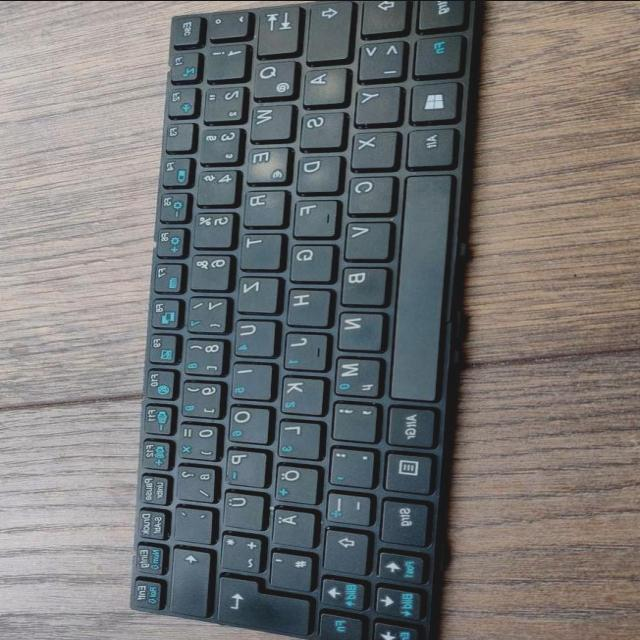0: (174, 419, 218, 459)
1: (202, 40, 246, 78)
2: (200, 82, 243, 120)
3: (195, 123, 240, 162)
4: (192, 165, 235, 203)
5: (190, 207, 232, 245)
6: (186, 250, 229, 288)
7: (184, 293, 226, 331)
8: (181, 335, 224, 373)
9: (178, 378, 221, 416)
a: (299, 63, 346, 102)
accent: (169, 502, 212, 541)
ae: (267, 504, 314, 545)
alt-left: (402, 123, 455, 165)
altgr-right: (383, 402, 435, 446)
b: (336, 261, 386, 303)
c: (343, 171, 393, 211)
caret: (205, 8, 248, 36)
comma: (327, 398, 377, 440)
d: (293, 151, 340, 191)
del: (166, 544, 209, 615)
e: (242, 142, 288, 181)
enter: (213, 572, 308, 635)
f: (289, 195, 337, 234)
g: (285, 239, 333, 279)
h: (282, 284, 330, 324)
hash: (264, 546, 312, 590)
i: (228, 359, 272, 398)
j: (279, 328, 328, 368)
k: (276, 373, 323, 413)
keyboard: (127, 0, 485, 640)
l: (273, 417, 320, 457)
less: (353, 36, 405, 78)
m: (330, 352, 381, 394)
minus: (321, 489, 370, 523)
n: (333, 307, 382, 348)
o: (224, 401, 270, 442)
oe: (270, 460, 318, 502)
p: (222, 444, 266, 485)
plus: (216, 529, 261, 571)
point: (325, 442, 373, 486)
q: (249, 56, 296, 96)
r: (239, 186, 284, 224)
s: (296, 107, 343, 145)
shift-left: (357, 0, 407, 32)
shift-lock: (301, 0, 350, 59)
shift-right: (318, 525, 368, 573)
space: (387, 171, 449, 399)
ss: (172, 460, 214, 500)
strg-left: (413, 0, 467, 28)
strg-right: (376, 495, 428, 545)
t: (236, 230, 281, 268)
tab: (252, 2, 300, 52)
u: (230, 316, 276, 354)
ue: (219, 487, 264, 528)
v: (340, 218, 390, 258)
w: (246, 99, 291, 137)
x: (346, 127, 396, 166)
y: (351, 82, 400, 122)
z: (233, 273, 278, 311)
